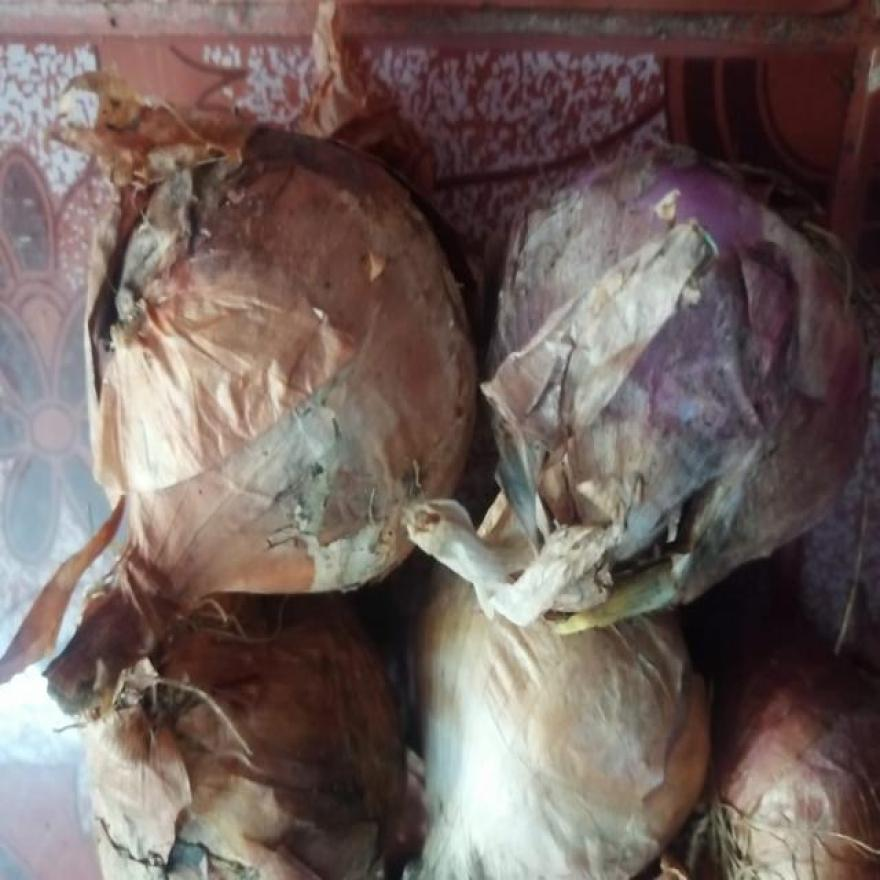Rotten: (486, 381, 714, 583), (117, 163, 286, 329)
